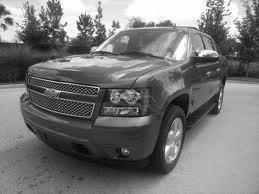car: (18, 25, 230, 178)
